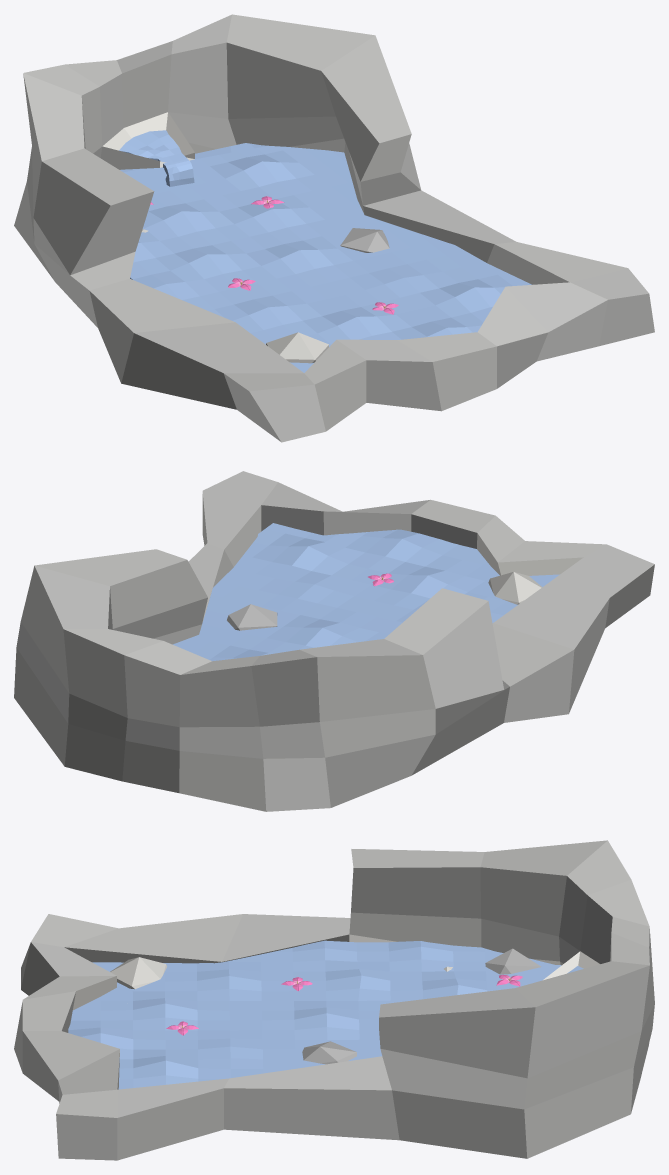
The model's file is pool.obj.
3 views of the same model, one above another, from view 1: azimuth 30°, elevation 25°; view 2: azimuth 150°, elevation 25°; view 3: azimuth 270°, elevation 25° (orthographic).
Visible parts, largest first — view 1: pool; view 2: pool; view 3: pool.
Part boxes in pixels (bbox=[...]): pool: bbox=[14, 14, 654, 442]; pool: bbox=[14, 471, 654, 811]; pool: bbox=[14, 840, 654, 1160].
Bounding box in the file's own units: 4.57 × 1.72 × 5.85.
